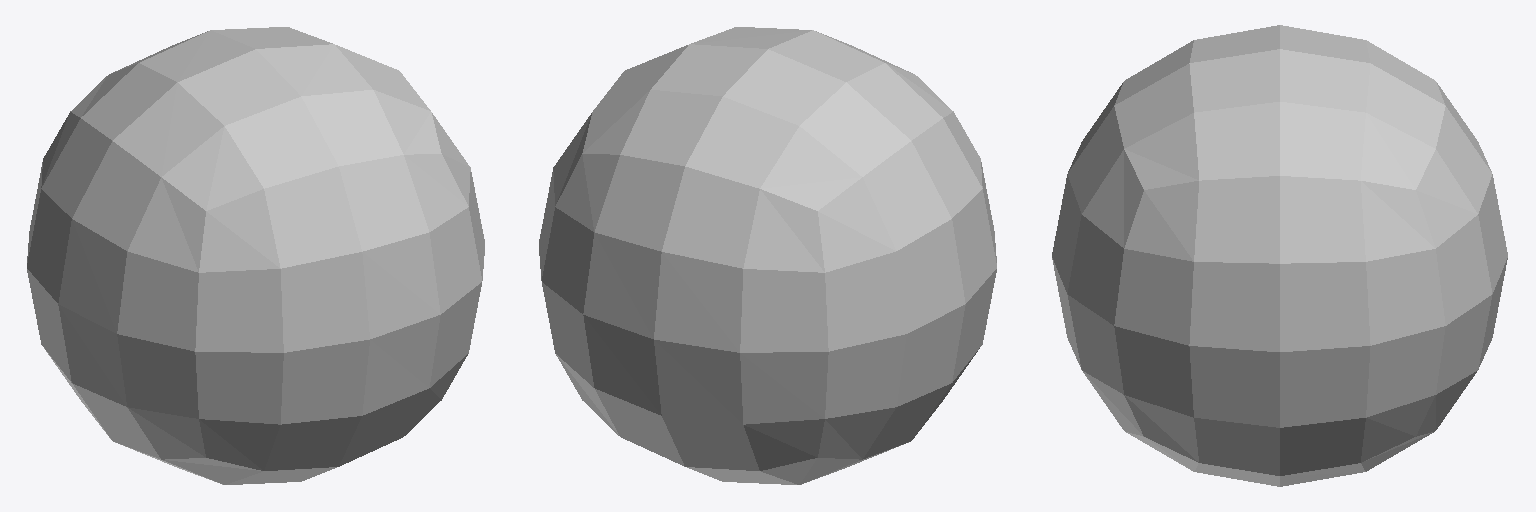
Rendered from Convex.obj.
3 renders of one model, left to right at view 1: azimuth 30°, elevation 25°; view 2: azimuth 150°, elevation 25°; view 3: azimuth 270°, elevation 25°, orthographic.
Parts seen in each view (by area): view 1: Cube; view 2: Cube; view 3: Cube.
Part boxes in pixels (bbox=[...]): Cube: bbox=[27, 27, 484, 484]; Cube: bbox=[539, 27, 996, 484]; Cube: bbox=[1052, 25, 1507, 486].
Size of the model in its own units: 1.68 by 1.68 by 1.68.